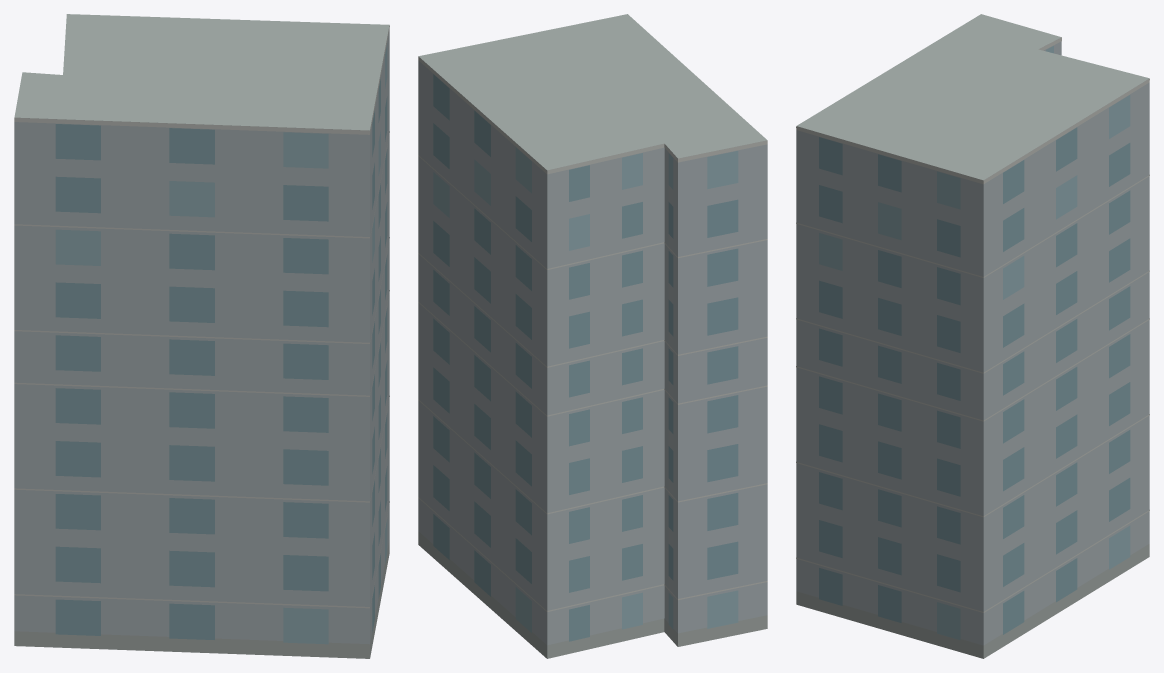
The model's file is survey-upis-32737263.glb.
3 views of the same model, side by side, from view 1: azimuth 30°, elevation 25°; view 2: azimuth 150°, elevation 25°; view 3: azimuth 270°, elevation 25° (orthographic). The views are drawn at different scales.
Parts seen in each view (by area): view 1: survey-upis-32737263.tmp; view 2: survey-upis-32737263.tmp; view 3: survey-upis-32737263.tmp.
Boxes of the visible parts, <box> form: survey-upis-32737263.tmp: <box>14,14,389,658</box>; survey-upis-32737263.tmp: <box>418,14,767,658</box>; survey-upis-32737263.tmp: <box>796,14,1149,658</box>.
Bounding box in the file's own units: 21.79 × 29.2 × 19.57.
